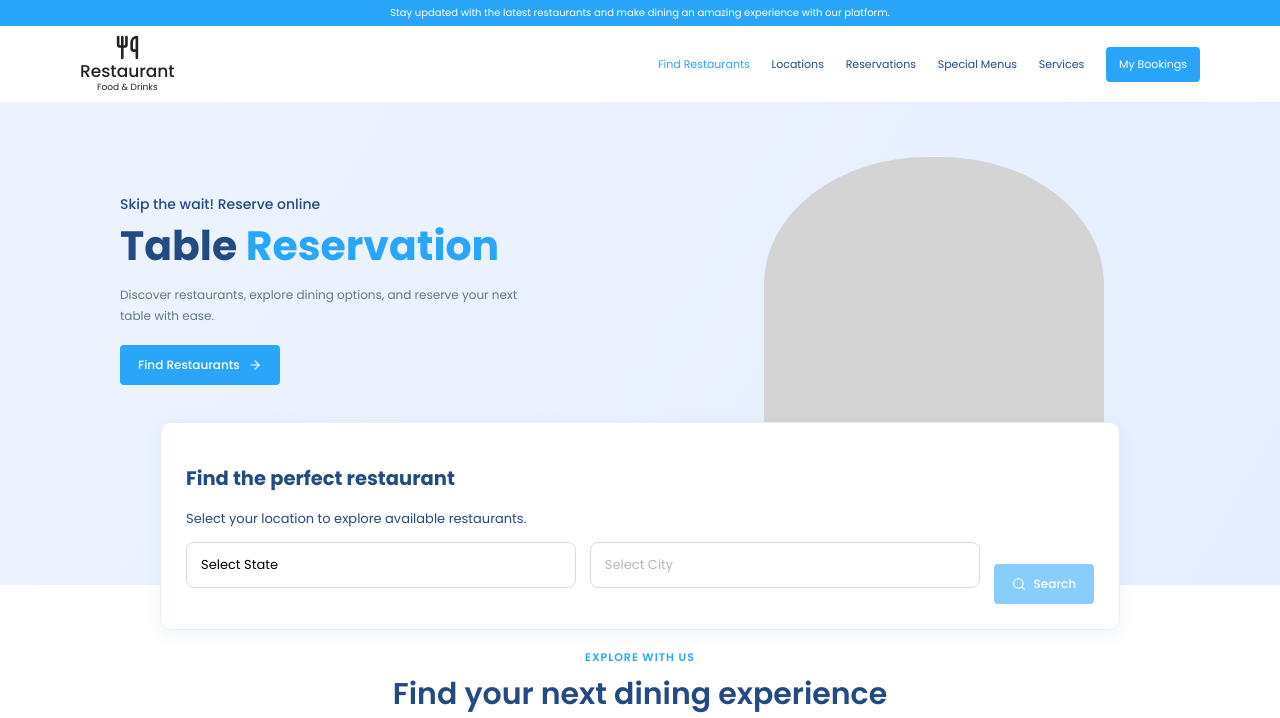
Test case: Restaurant Reservation › shows reservation button on restaurant cards
Click the element with id "state".
click(381, 565)  # box [186,542,576,588]
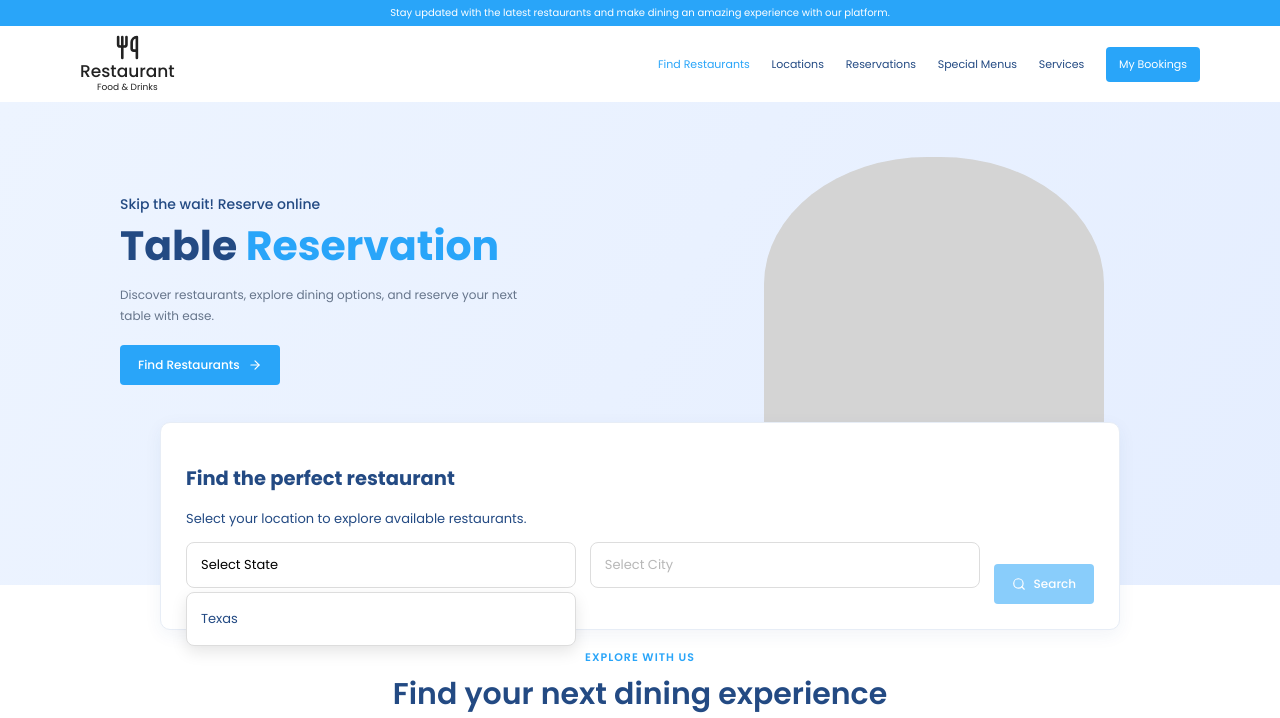
Click the list item "Texas".
click(220, 619)  # box [201,609,238,628]
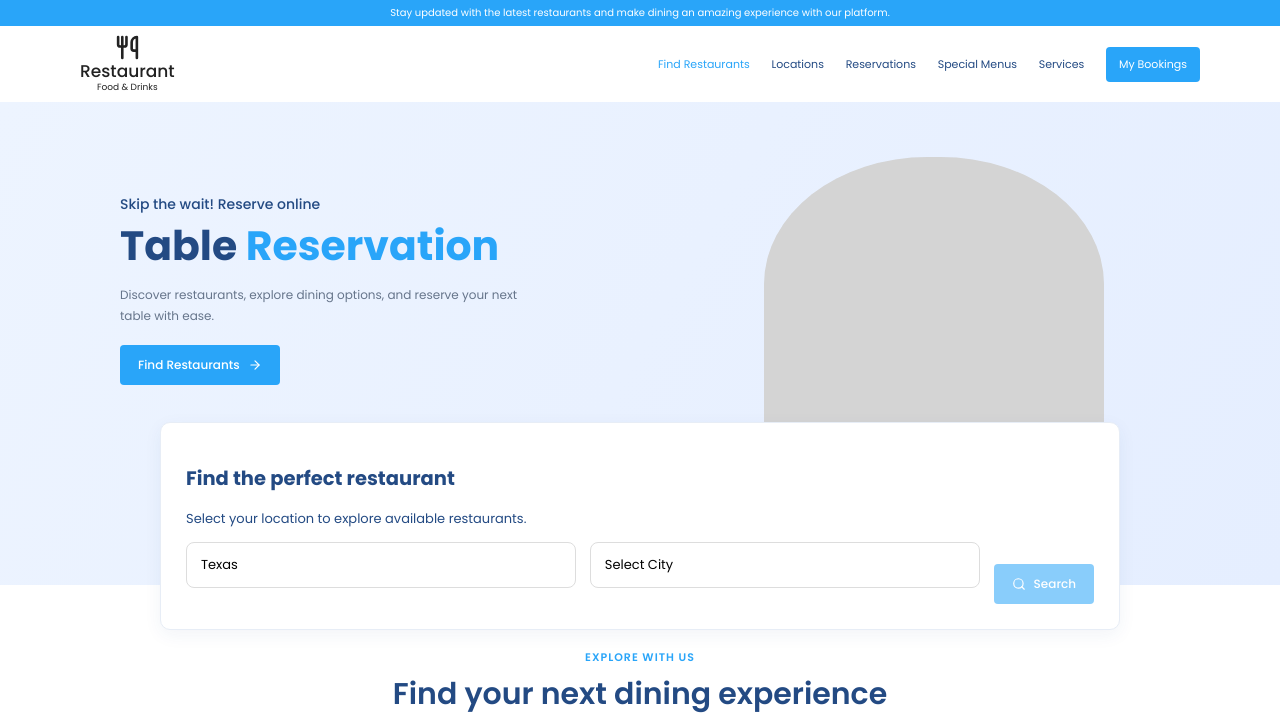
Click the element with id "city".
click(785, 565)  # box [590,542,980,588]
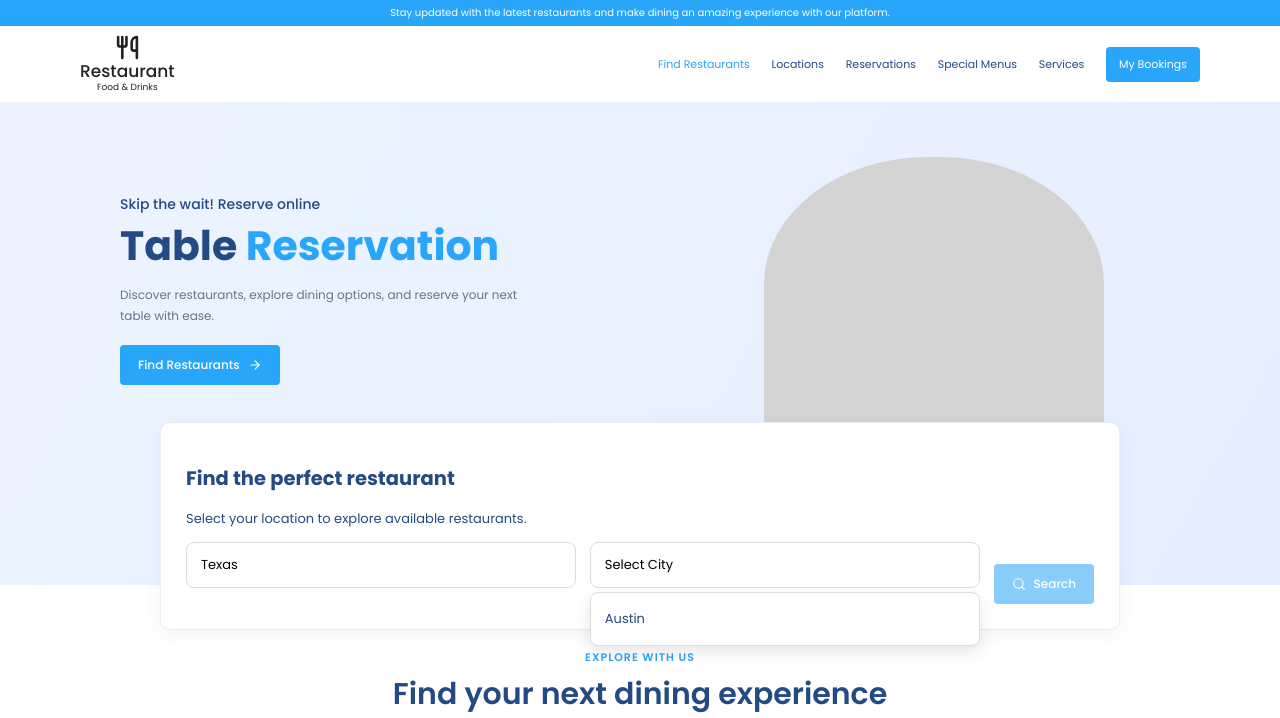
Click the list item "Austin".
click(625, 619)  # box [605,609,645,628]
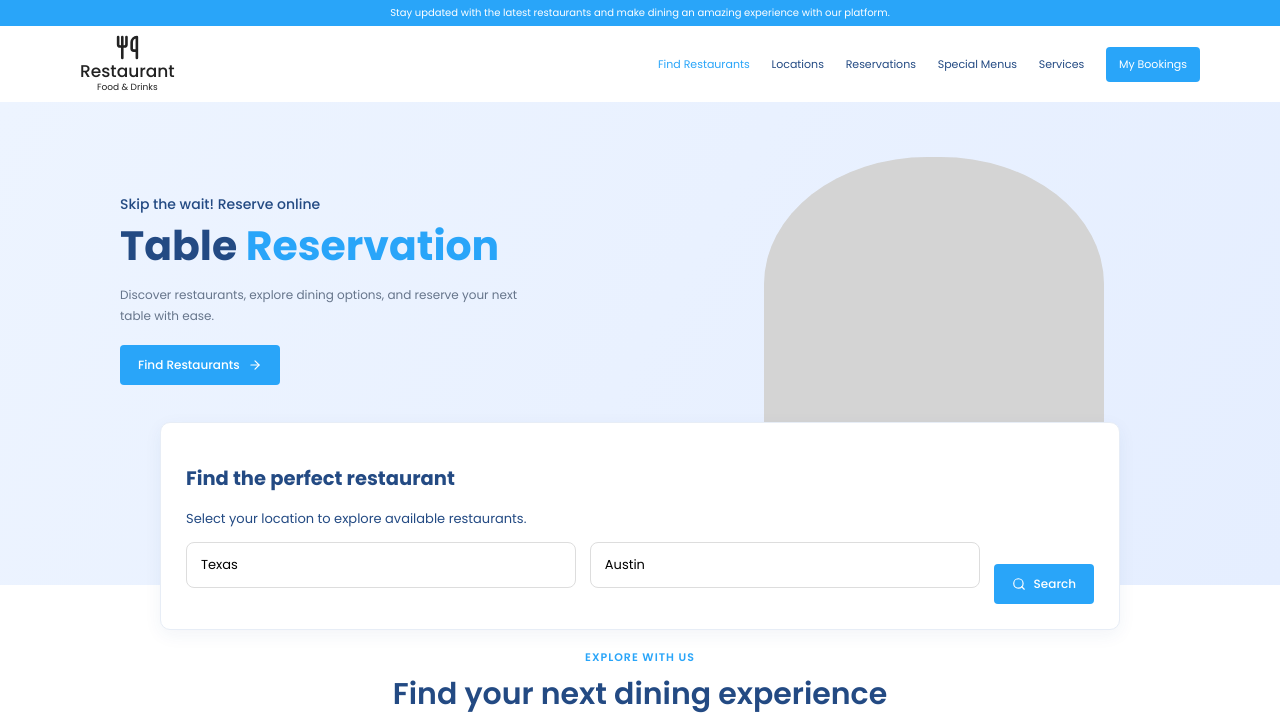
Click the button with id "searchBtn".
click(1044, 584)  # box [994,564,1094,604]
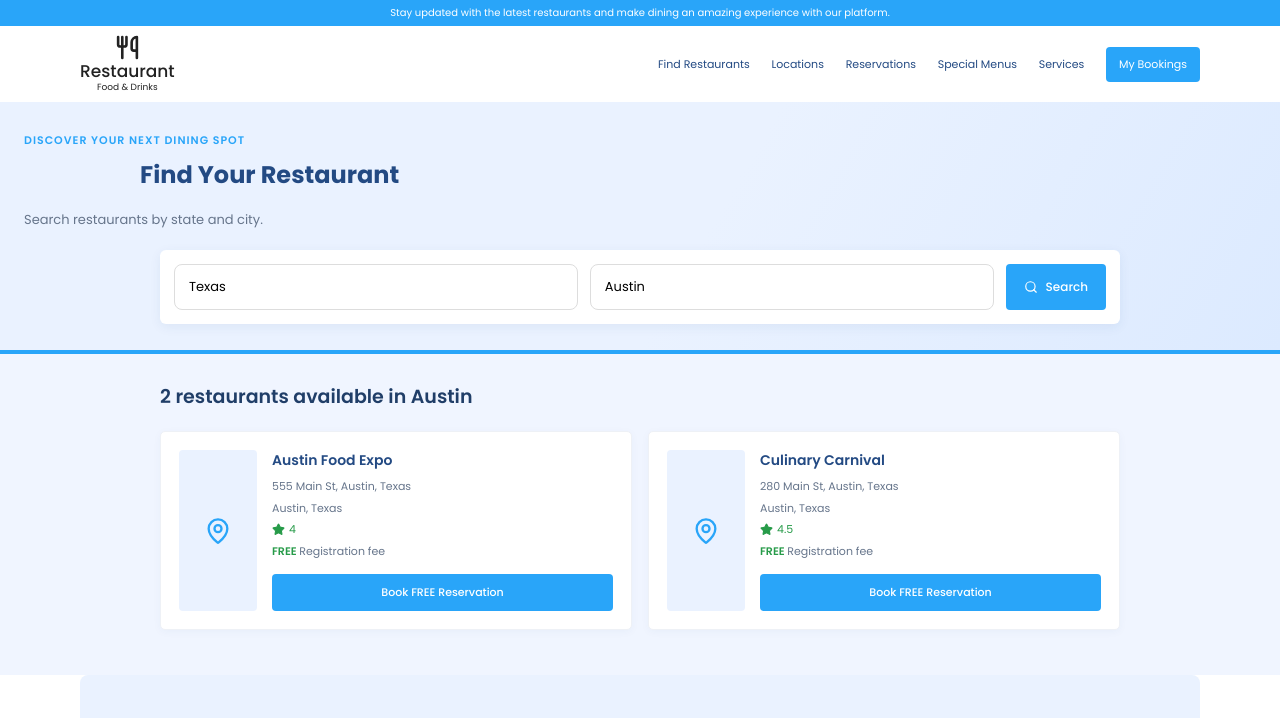
Expected: the button "Book FREE Reservation" below "555 Main St, Austin, Texas" is shown, [272,574,613,611]
